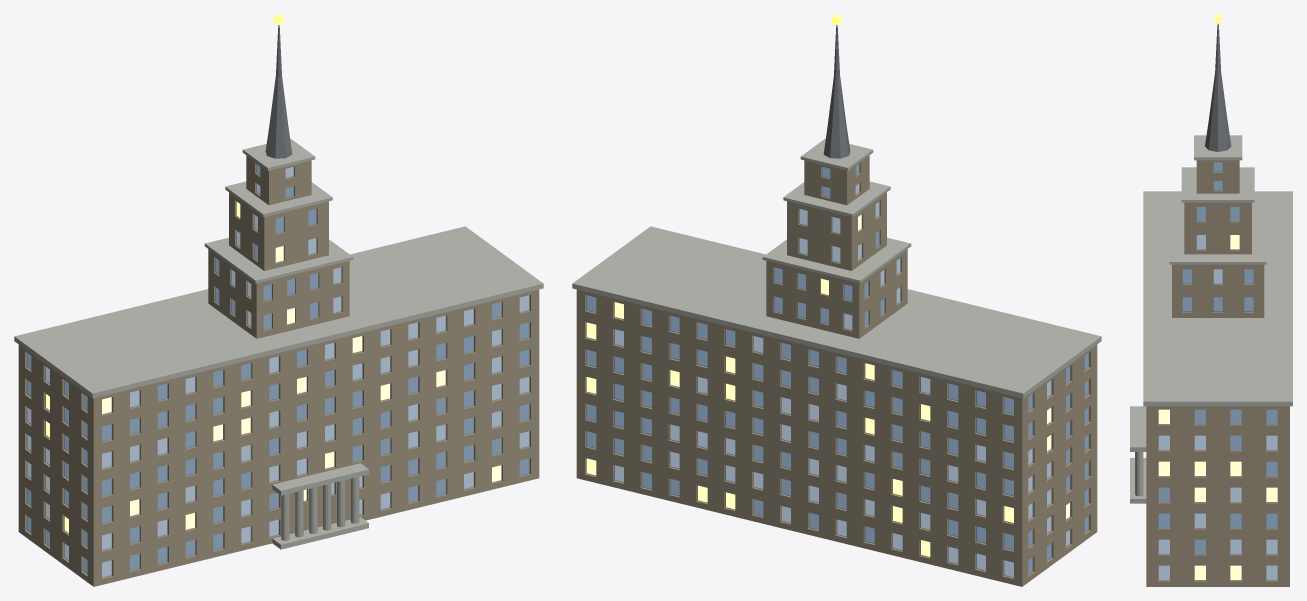
Rendered from stalin_house.glb.
3 renders of one model, left to right at view 1: azimuth 30°, elevation 25°; view 2: azimuth 150°, elevation 25°; view 3: azimuth 270°, elevation 25°, orthographic. The views are drawn at different scales.
Parts seen in each view (by area): view 1: facade_front, cornice, facade_left, tower_win_0_front, tower_win_1_front, tower_win_0_left, tower_cornice, tower_win_1_left, spire, tower_win_2_front, tower_cornice.001, architrave (+3 smaller); view 2: facade_back, cornice, facade_left, tower_win_0_back, tower_win_1_back, tower_win_0_left, tower_cornice, tower_win_1_left, spire, tower_win_2_back, tower_cornice.001, tower_cornice.002 (+1 smaller); view 3: facade_right, cornice, tower_win_0_right, tower_win_1_right, tower_cornice, tower_cornice.001, spire, tower_win_2_right, tower_cornice.002, architrave, stylobate, column.005.
Part boxes in pixels (x1,y1,x2,y2): facade_front: [93, 289, 539, 586]; cornice: [14, 226, 543, 398]; facade_left: [18, 344, 93, 586]; tower_win_0_front: [256, 261, 349, 338]; tower_win_1_front: [264, 201, 328, 270]; tower_win_0_left: [208, 249, 256, 338]; tower_cornice: [204, 237, 353, 283]; tower_win_1_left: [229, 192, 264, 270]; spire: [265, 25, 292, 158]; tower_win_2_front: [269, 160, 311, 205]; tower_cornice.001: [225, 181, 332, 217]; architrave: [272, 463, 368, 495]; facade_back: [576, 289, 1022, 586]; cornice: [572, 226, 1101, 398]; facade_left: [1022, 344, 1097, 586]; tower_win_0_back: [766, 261, 859, 338]; tower_win_1_back: [787, 201, 851, 270]; tower_win_0_left: [859, 249, 907, 338]; tower_cornice: [762, 237, 911, 283]; tower_win_1_left: [851, 192, 886, 270]; spire: [823, 25, 850, 158]; tower_win_2_back: [804, 160, 846, 205]; tower_cornice.001: [783, 181, 890, 217]; tower_cornice.002: [800, 138, 873, 170]; facade_right: [1146, 406, 1289, 586]; cornice: [1143, 191, 1292, 406]; tower_win_0_right: [1172, 264, 1264, 317]; tower_win_1_right: [1184, 202, 1251, 254]; tower_cornice: [1169, 216, 1266, 264]; tower_cornice.001: [1181, 167, 1254, 202]; spire: [1205, 23, 1231, 151]; tower_win_2_right: [1196, 160, 1239, 193]; tower_cornice.002: [1194, 135, 1242, 160]; architrave: [1130, 406, 1146, 451]; stylobate: [1130, 458, 1146, 503]; column.005: [1135, 452, 1143, 496].
Size of what is drawn, in the model's own units: 48.6 by 50.35 by 15.9.
